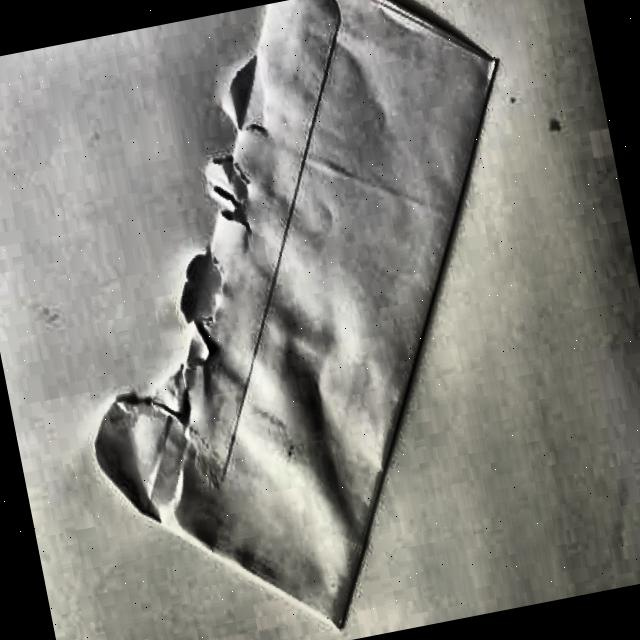paper: (3, 0, 591, 640)
